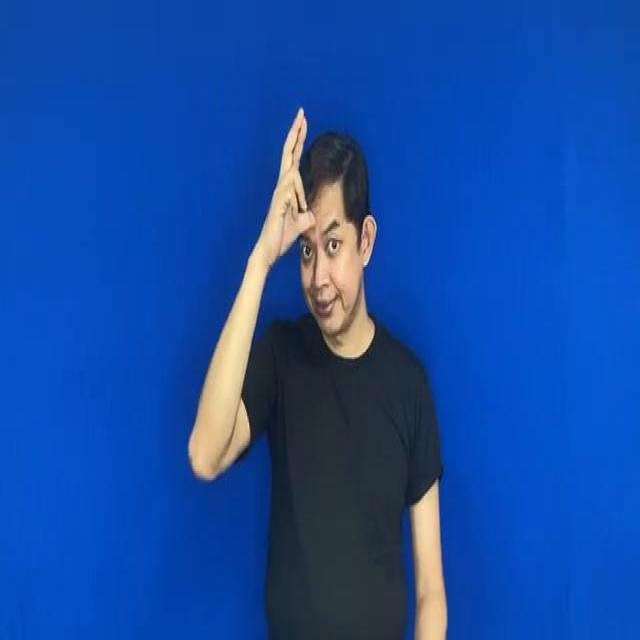chicken: (260, 104, 320, 245)
